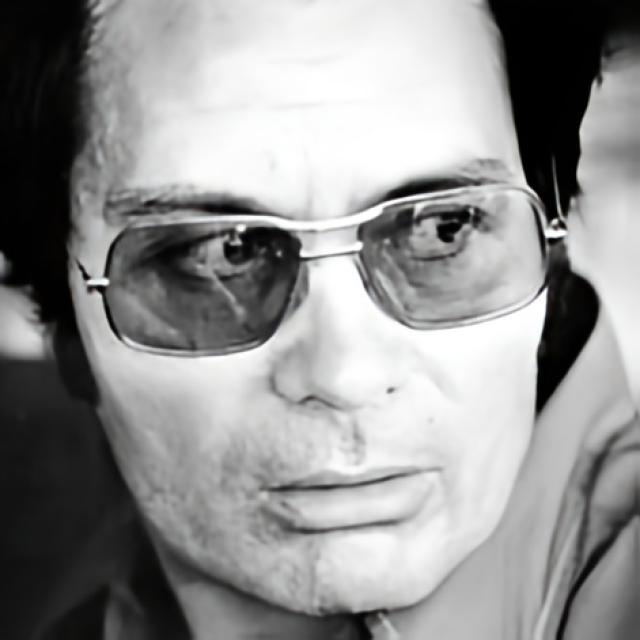sad: (63, 0, 550, 621)
